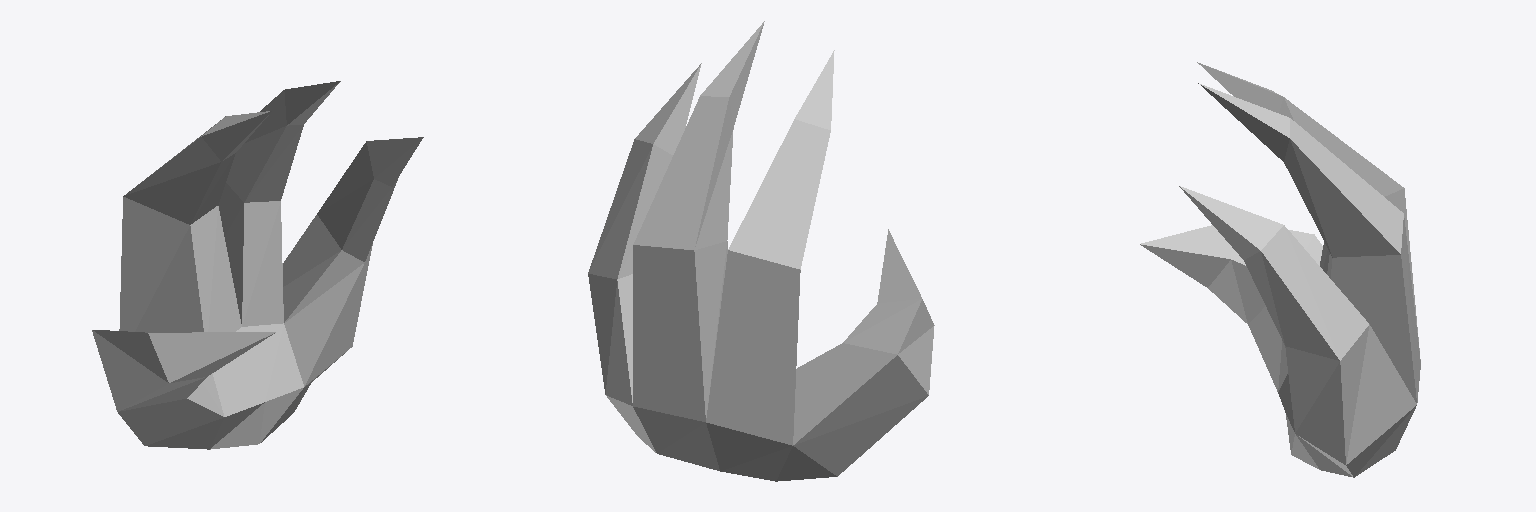
Rendered from behemothhand.obj.
3 views of the same model, side by side, from view 1: azimuth 30°, elevation 25°; view 2: azimuth 150°, elevation 25°; view 3: azimuth 270°, elevation 25° (orthographic).
Visible parts, largest first — view 1: behemothhand; view 2: behemothhand; view 3: behemothhand.
Part boxes in pixels (x1,y1,x2,y2): behemothhand: (92,81,423,449); behemothhand: (588,21,934,481); behemothhand: (1140,62,1420,477).
Bounding box in the file's own units: 0.6891 × 0.8552 × 0.5616.